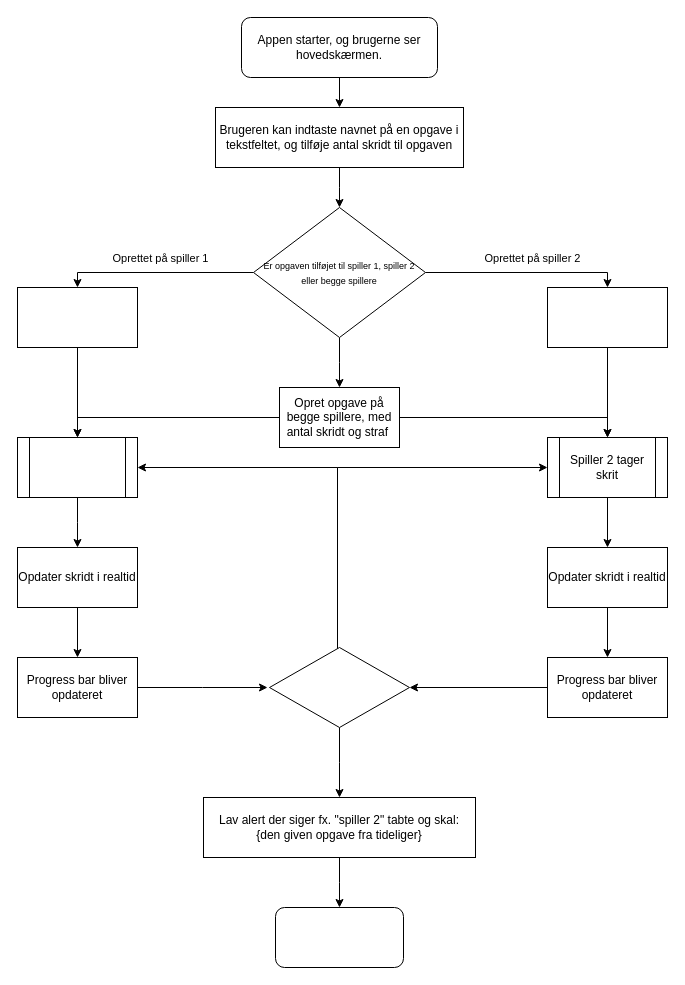
Image size: 685x985. Some labels were removed from this diagram. The shapes that lost their labels are listed below. From the top down, each one's centre as x and y in pixels, then its label:
(x=77, y=317): Opret opgave på spiller 1, med antal skridt og straf
(x=607, y=317): Opret opgave på spiller 2, med antal skridt og straf
(x=77, y=467): Spiller 1 tager skrit
(x=339, y=687): Har spiller nået målet?
(x=339, y=937): Spiller kan lukke appen
